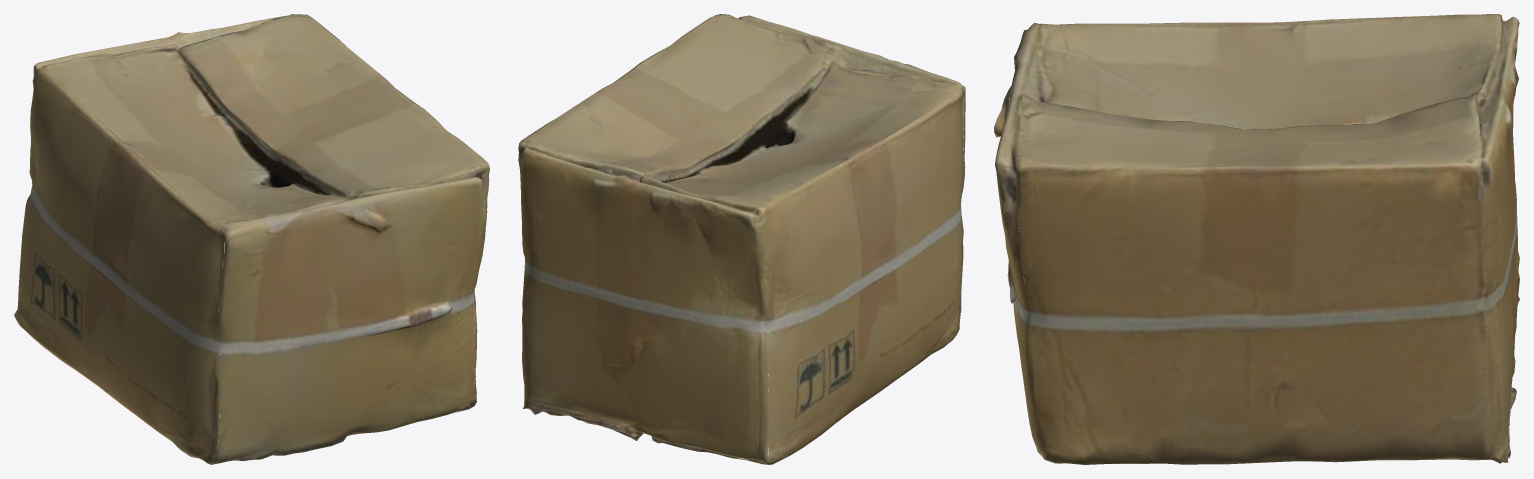
The model's file is cardboard-box.glb.
3 renders of one model, left to right at view 1: azimuth 30°, elevation 25°; view 2: azimuth 150°, elevation 25°; view 3: azimuth 270°, elevation 25°, orthographic. The views are drawn at different scales.
Parts seen in each view (by area): view 1: cardboard_box_01; view 2: cardboard_box_01; view 3: cardboard_box_01.
Boxes of the visible parts, bbox=[...] form: cardboard_box_01: bbox=[14, 14, 489, 464]; cardboard_box_01: bbox=[518, 14, 965, 464]; cardboard_box_01: bbox=[994, 14, 1519, 464].
Bounding box in the file's own units: 0.3871 × 0.3415 × 0.5159.
1 material, 1 textured.
